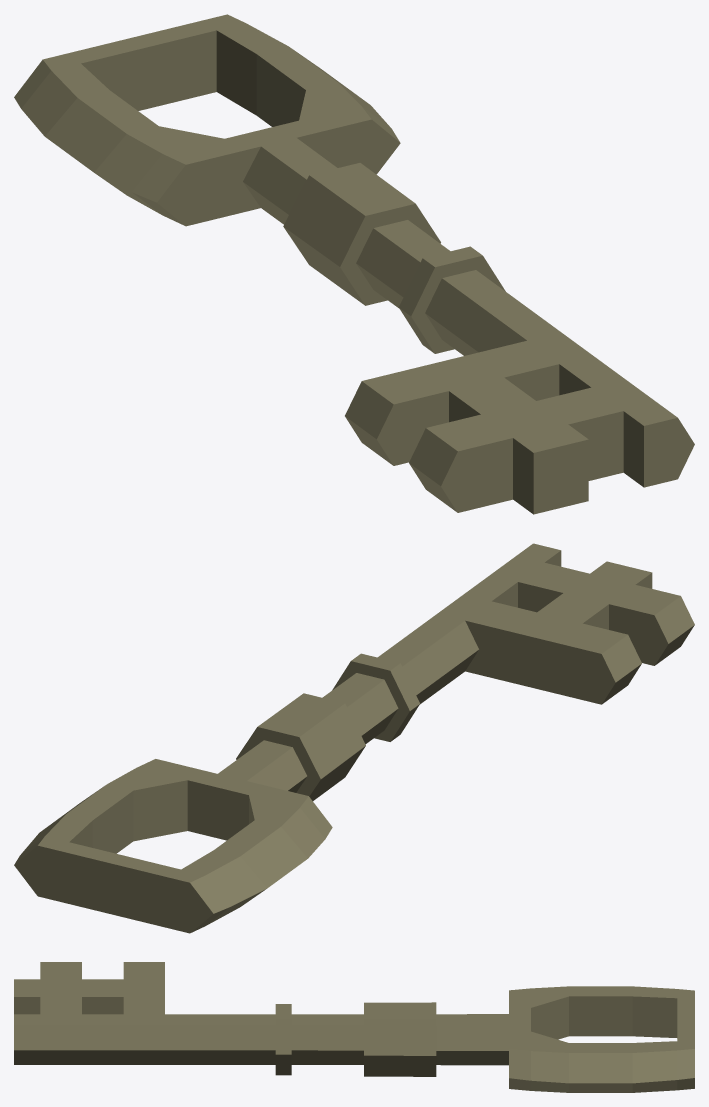
File: LlaveJaula.fbx
The picture shows the model from 3 angles, top to bottom: view 1: azimuth 30°, elevation 25°; view 2: azimuth 150°, elevation 25°; view 3: azimuth 270°, elevation 25°; orthographic projection. The views are drawn at different scales.
Parts seen in each view (by area): view 1: Llave1; view 2: Llave1; view 3: Llave1.
Boxes of the visible parts, x1,y1,x2,y2 form: Llave1: [14, 14, 694, 514]; Llave1: [14, 543, 694, 933]; Llave1: [14, 962, 694, 1092].
Bounding box in the file's own units: 16.67 × 4.24 × 44.91.
